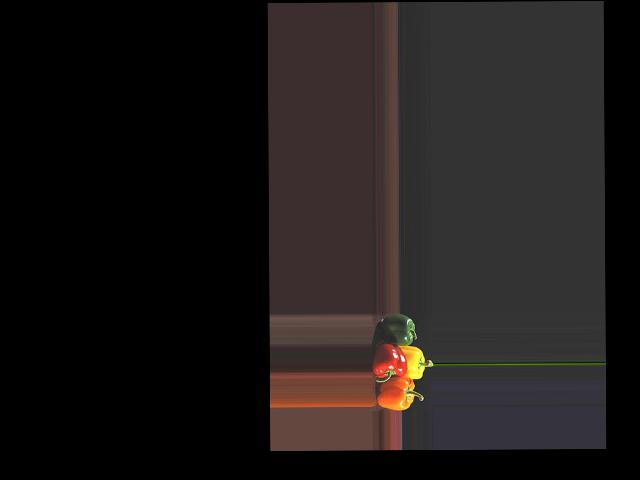bell_pepper: (371, 375, 419, 410)
